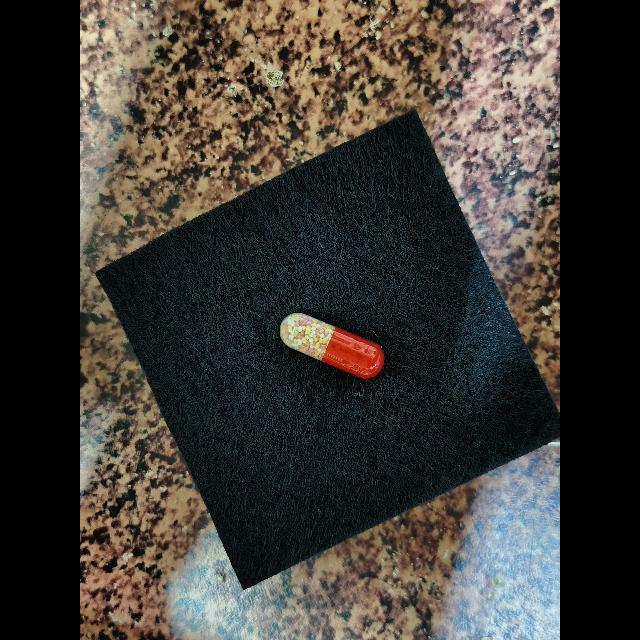Intact Capsule: (280, 313, 384, 379)
